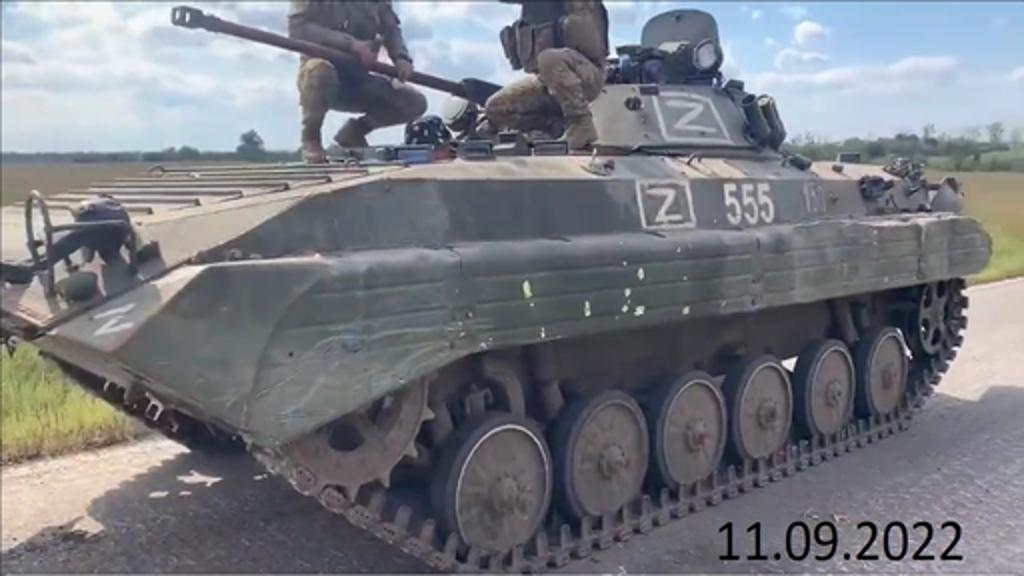APC-IFV: (0, 43, 992, 575)
